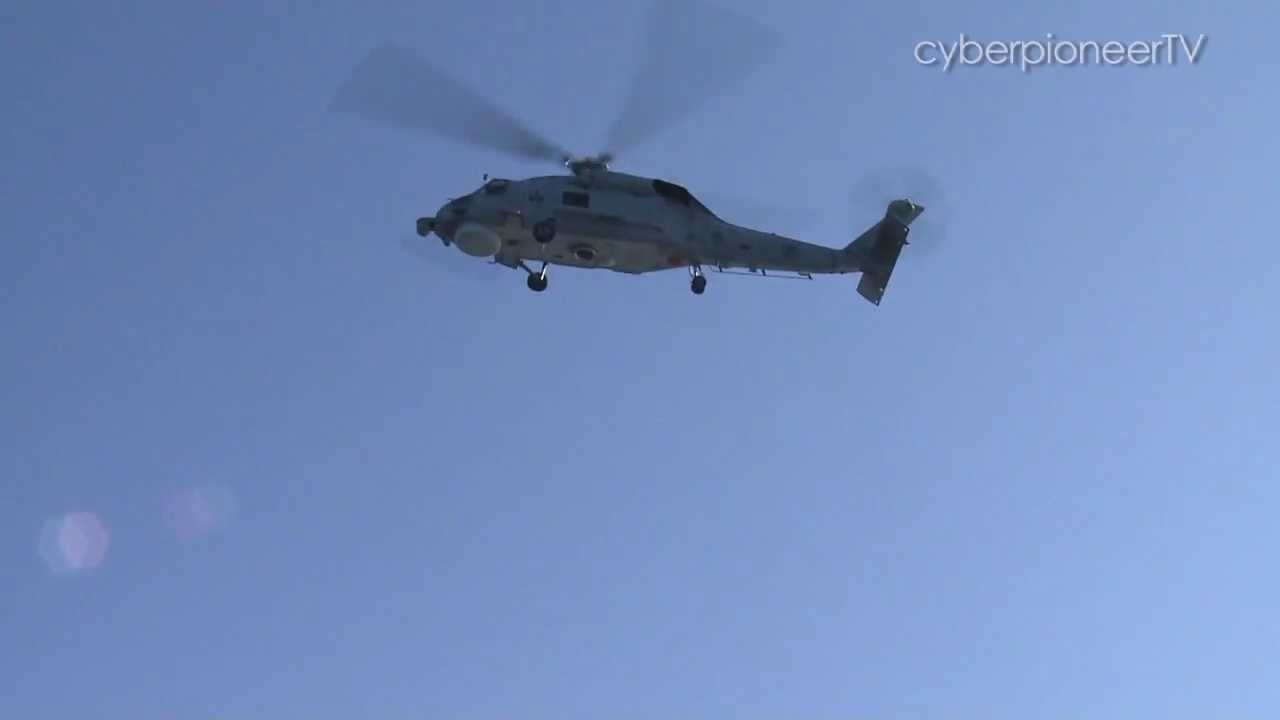seahawk: (328, 1, 955, 311)
